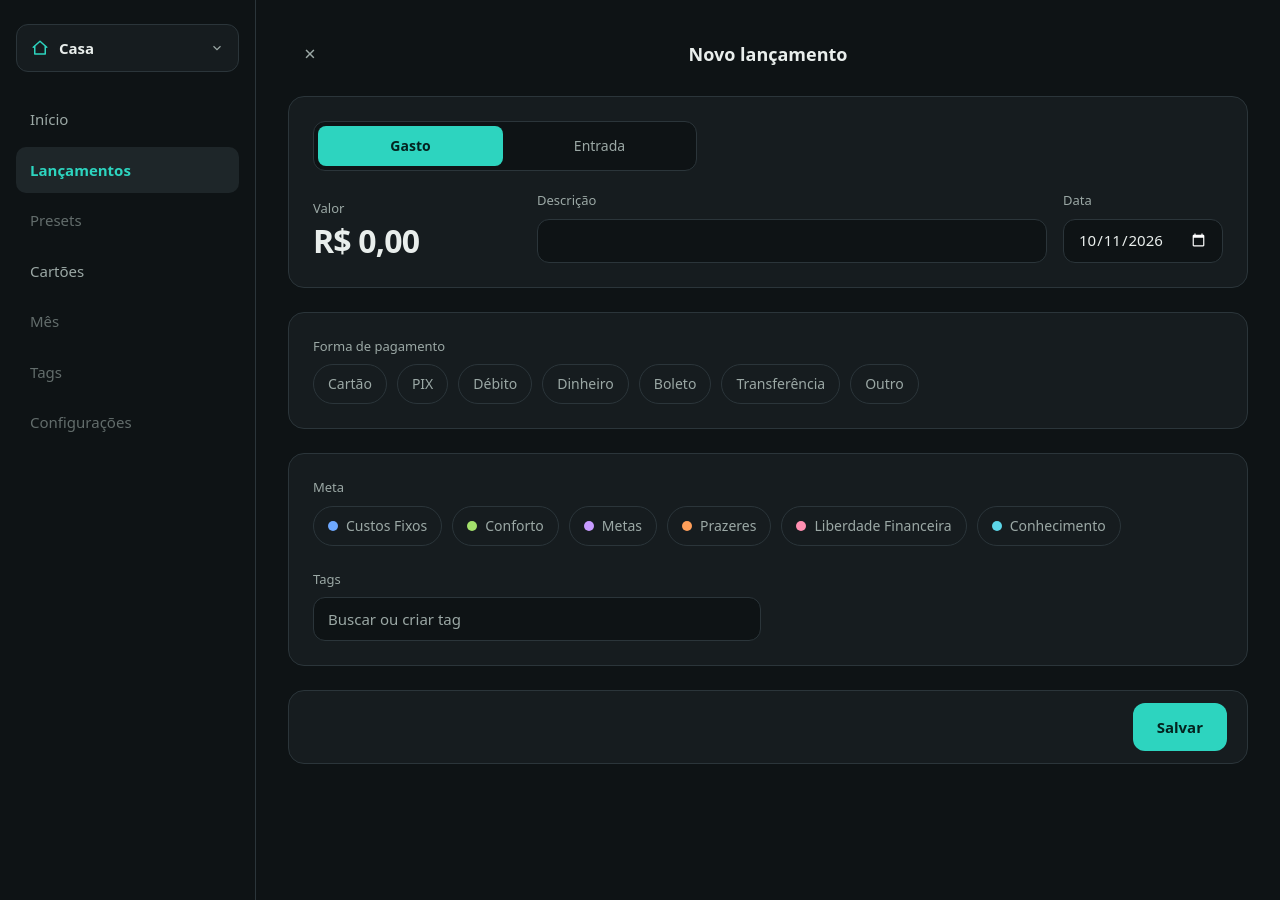
Test: gasto no cartão › sem cartão cadastrado oferece o cadastro
Click the button "Cartão".
click(350, 384)  # box [313, 364, 387, 404]
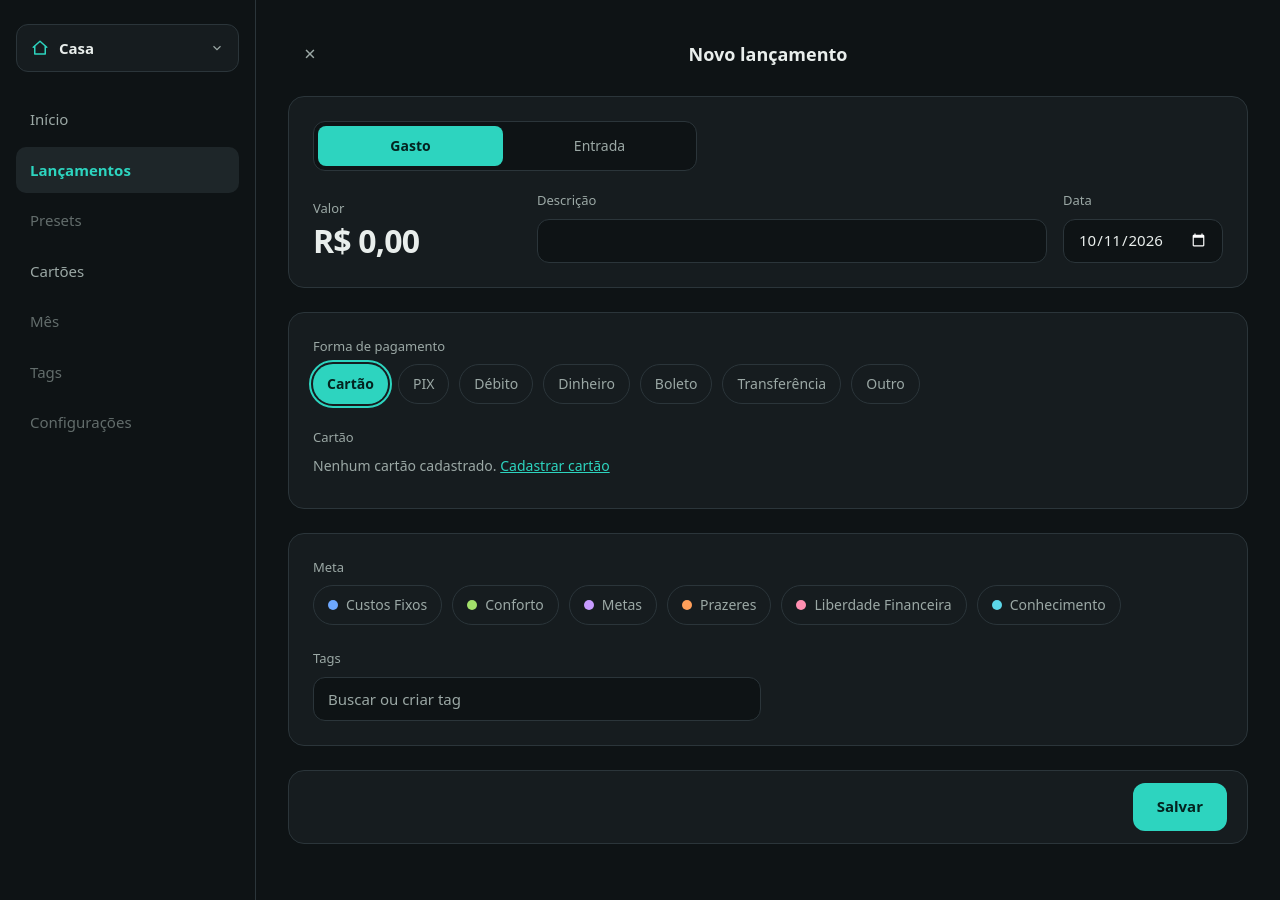
Now the text "Nenhum cartão cadastrado. Cadastrar cartão" is shown, box [313, 456, 610, 474]
Now the link "Cadastrar cartão" is shown, box [500, 456, 610, 474]
